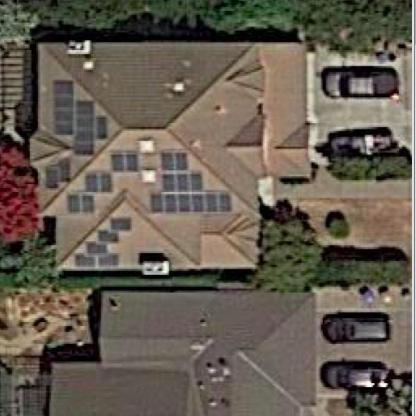car: (319, 304, 392, 347), (319, 355, 399, 394), (324, 126, 401, 163), (322, 68, 397, 102)
solar_panel: (149, 144, 238, 224), (62, 145, 140, 216), (48, 74, 110, 159), (66, 214, 139, 268), (40, 156, 75, 190)
